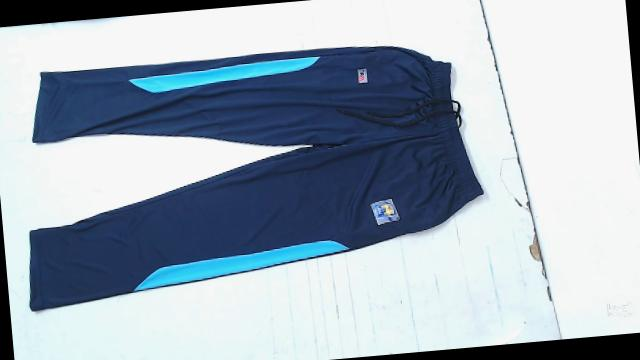new-garment: (30, 46, 483, 310)
